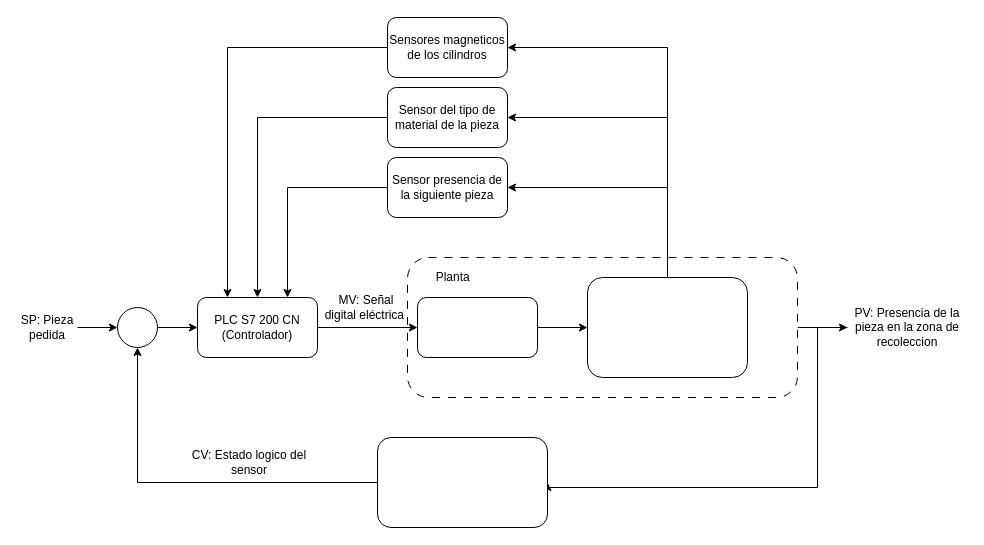
The diagram is 984 pixels wide and 545 high, and some of its shapes have lost their labels. The box of each missing label's shape, as (x1, y1, x2, y2) in pixels:
Electrovalvula del cilindro inferior: (416, 296, 538, 358)
Sensor de presencia en la zona de recolección (Sensor): (376, 436, 548, 528)
Tubo de alimentación + Piezas + Cilindros y electrovalvulas: (586, 276, 748, 378)
